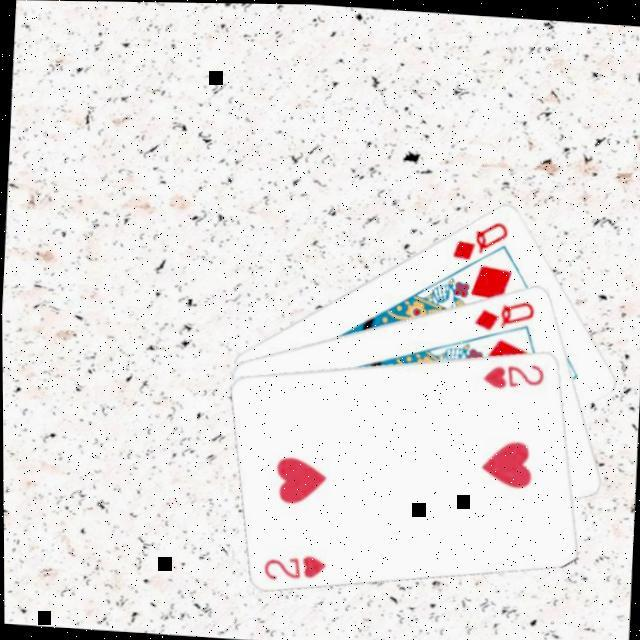2H: (480, 353, 550, 391), (262, 545, 332, 583)
QD: (450, 211, 514, 263), (472, 291, 540, 333)
